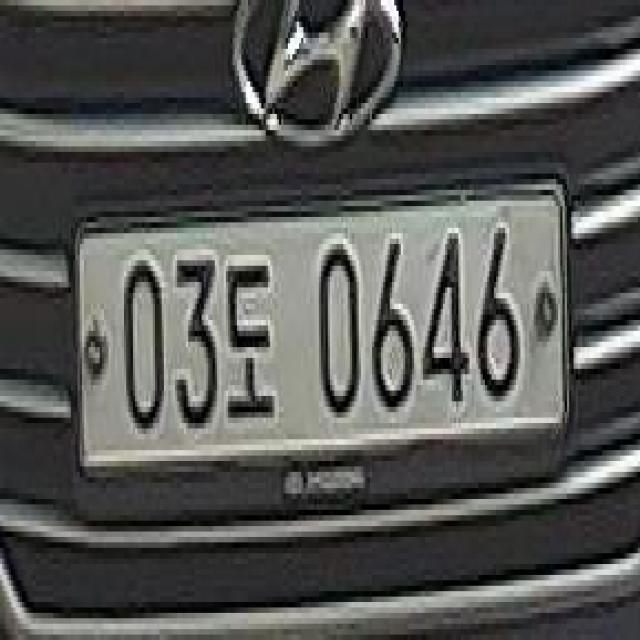illegal_plate: (73, 181, 569, 498)
